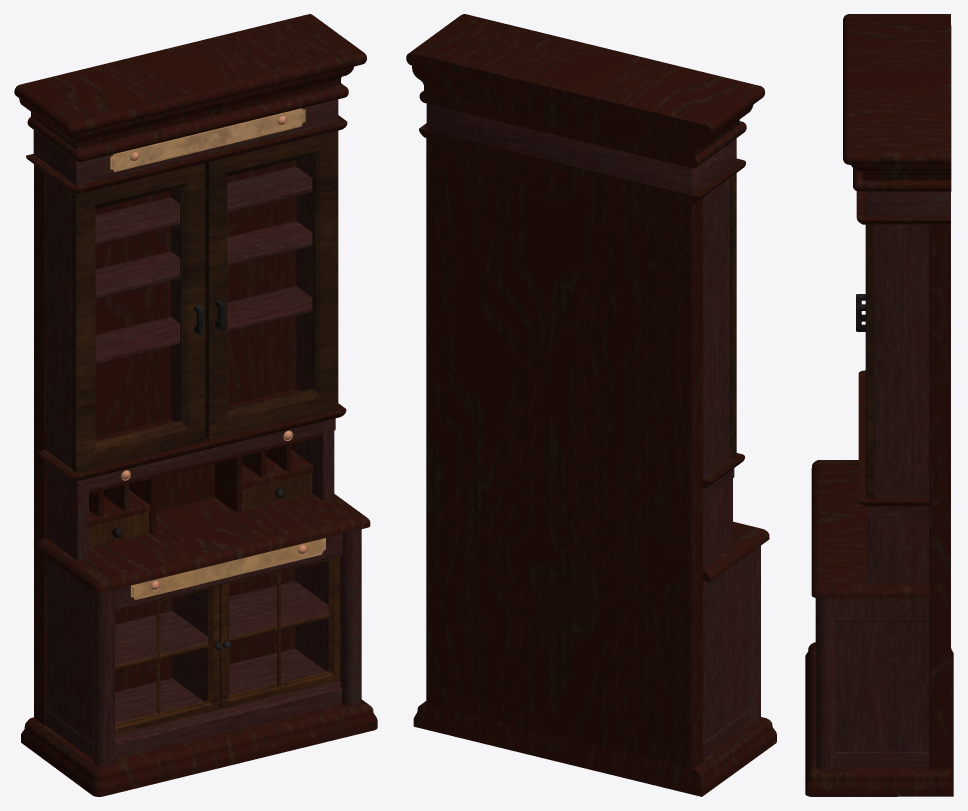
File: high_cabinet_from_the_19th_century.glb
3 renders of one model, left to right at view 1: azimuth 30°, elevation 25°; view 2: azimuth 150°, elevation 25°; view 3: azimuth 270°, elevation 25°, orthographic. The views are drawn at different scales.
Visible parts, largest first — view 1: MyModel_source.005; view 2: MyModel_source.005; view 3: MyModel_source.005.
Boxes of the visible parts, bbox=[...] form: MyModel_source.005: bbox=[14, 14, 377, 796]; MyModel_source.005: bbox=[406, 14, 776, 796]; MyModel_source.005: bbox=[805, 14, 953, 796].
Bounding box in the file's own units: 1.32 × 2.77 × 0.5778.
Materials: 1 (1 with a texture image).
